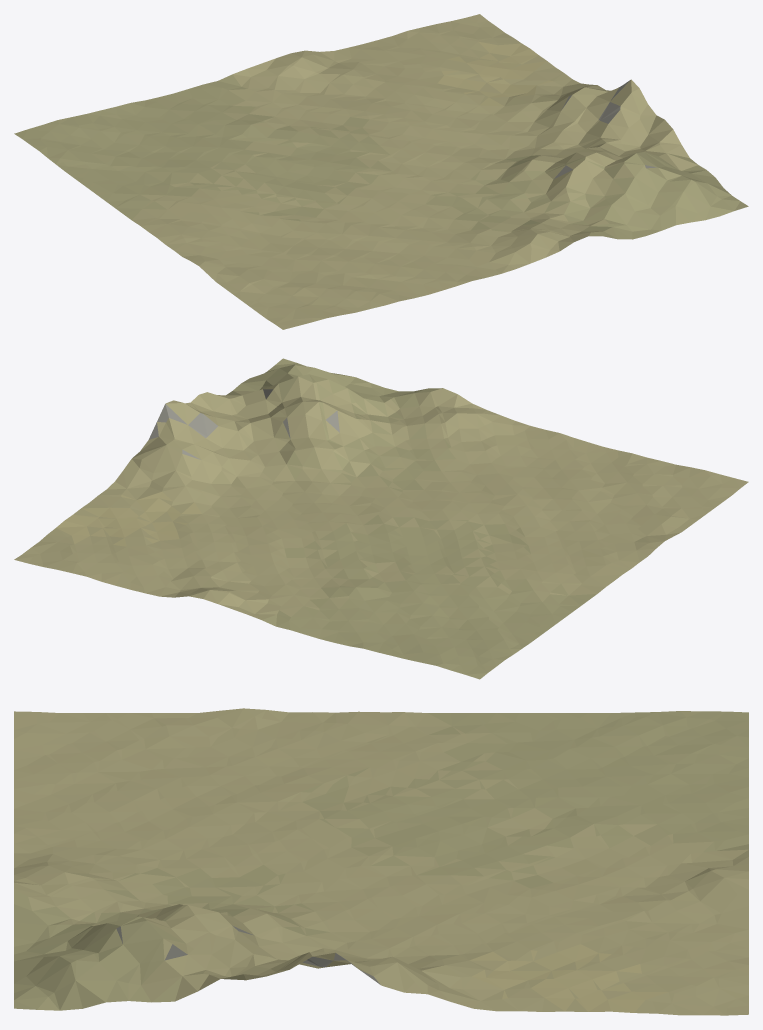
The model's file is Ground_1_5.glb.
3 views of the same model, one above another, from view 1: azimuth 30°, elevation 25°; view 2: azimuth 150°, elevation 25°; view 3: azimuth 270°, elevation 25° (orthographic). The views are drawn at different scales.
Parts seen in each view (by area): view 1: Ground_1_5; view 2: Ground_1_5; view 3: Ground_1_5.
Part boxes in pixels (box(x1,y1,x2,y2)): Ground_1_5: box(14, 14, 748, 329); Ground_1_5: box(14, 358, 748, 679); Ground_1_5: box(14, 708, 748, 1015).
Bounding box in the file's own units: 768 × 81.84 × 768.
